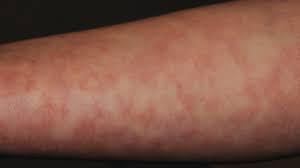Goosebumps: (0, 0, 299, 158)
